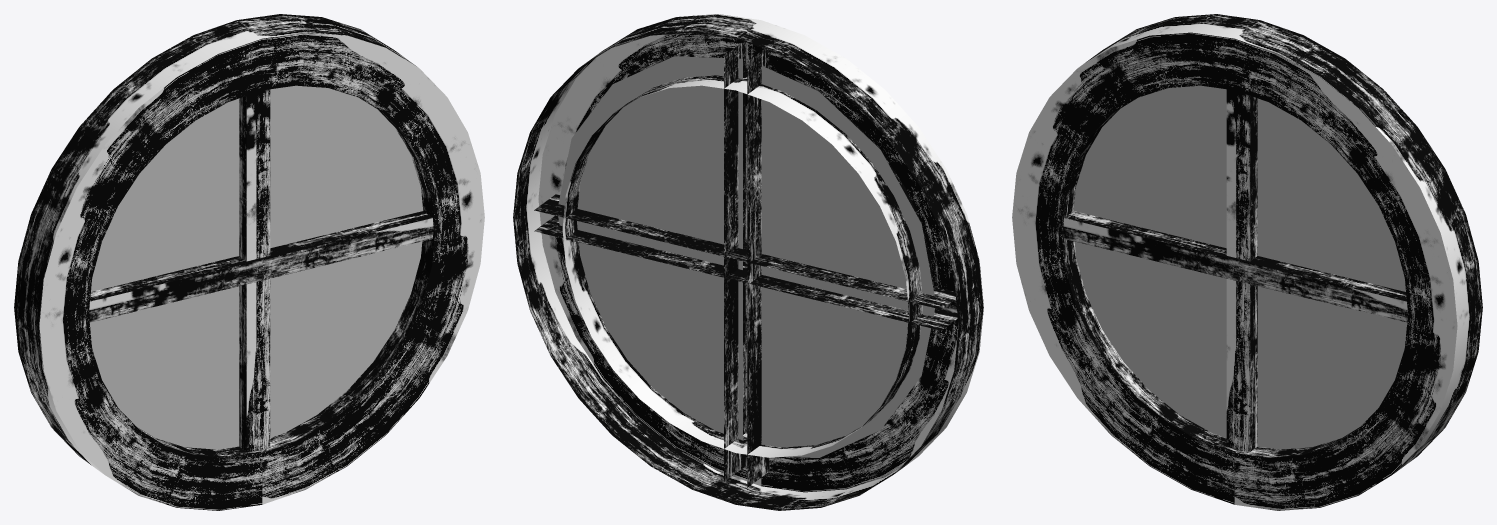
Rendered from SM_window_03.fbx.
3 renders of one model, left to right at view 1: azimuth 30°, elevation 25°; view 2: azimuth 150°, elevation 25°; view 3: azimuth 330°, elevation 25°, orthographic.
Visible parts, largest first — view 1: SM_window_03_LOD0; view 2: SM_window_03_LOD0; view 3: SM_window_03_LOD0.
Boxes of the visible parts, x1=… form: SM_window_03_LOD0: x1=14, y1=14, x2=484, y2=510; SM_window_03_LOD0: x1=513, y1=14, x2=983, y2=510; SM_window_03_LOD0: x1=1012, y1=14, x2=1482, y2=510.
Size of the model in its own units: 144 by 14.37 by 144.
Materials: 2 (1 with a texture image).
